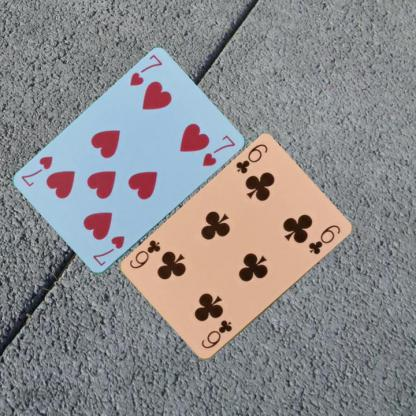6c: (233, 141, 269, 176), (198, 317, 234, 350)
7h: (127, 52, 164, 88), (90, 232, 126, 268)
